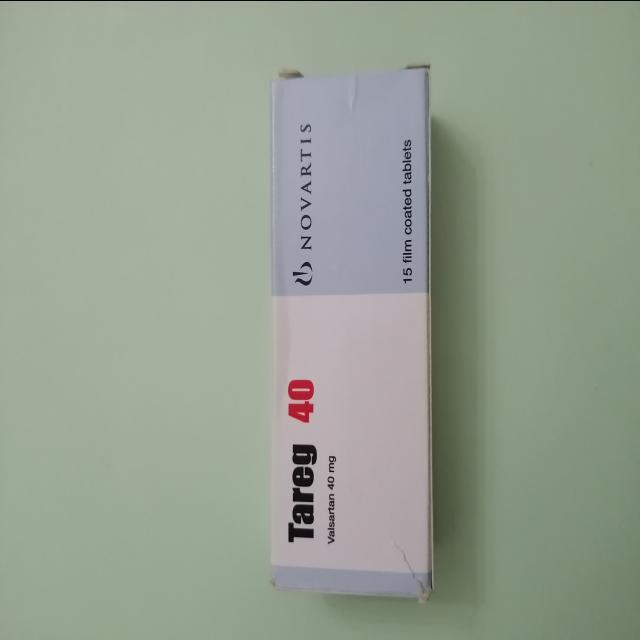Medicine Name: (282, 426, 324, 560)
